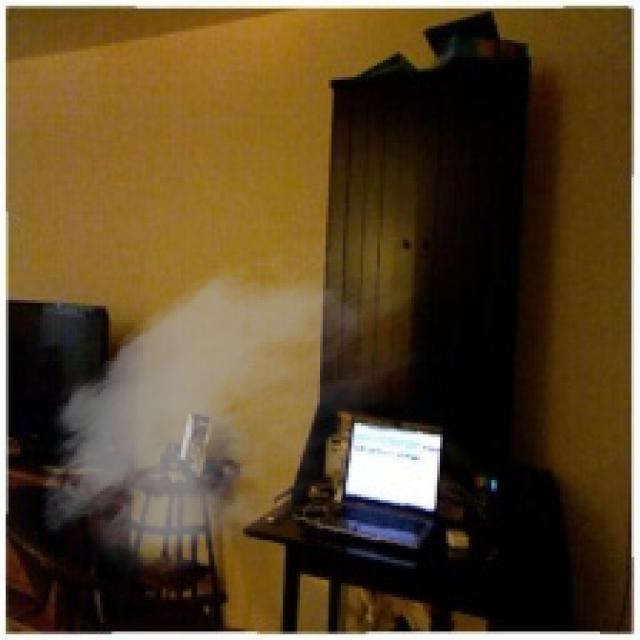smoke: (29, 232, 420, 588)
